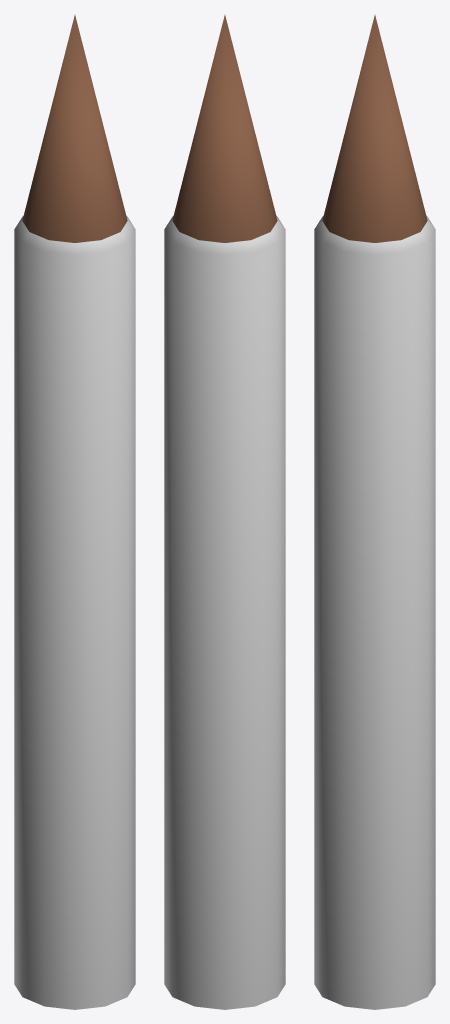
The model's file is Pal_1.fbx.
The picture shows the model from 3 angles, left to right: view 1: azimuth 30°, elevation 25°; view 2: azimuth 150°, elevation 25°; view 3: azimuth 330°, elevation 25°; orthographic projection.
Visible parts, largest first — view 1: Pal_1; view 2: Pal_1; view 3: Pal_1.
Boxes of the visible parts, x1,y1,x2,y2 form: Pal_1: (14,15,135,1009); Pal_1: (164,15,285,1009); Pal_1: (314,15,435,1009).
Bounding box in the file's own units: 0.1592 × 1.41 × 0.1592.
